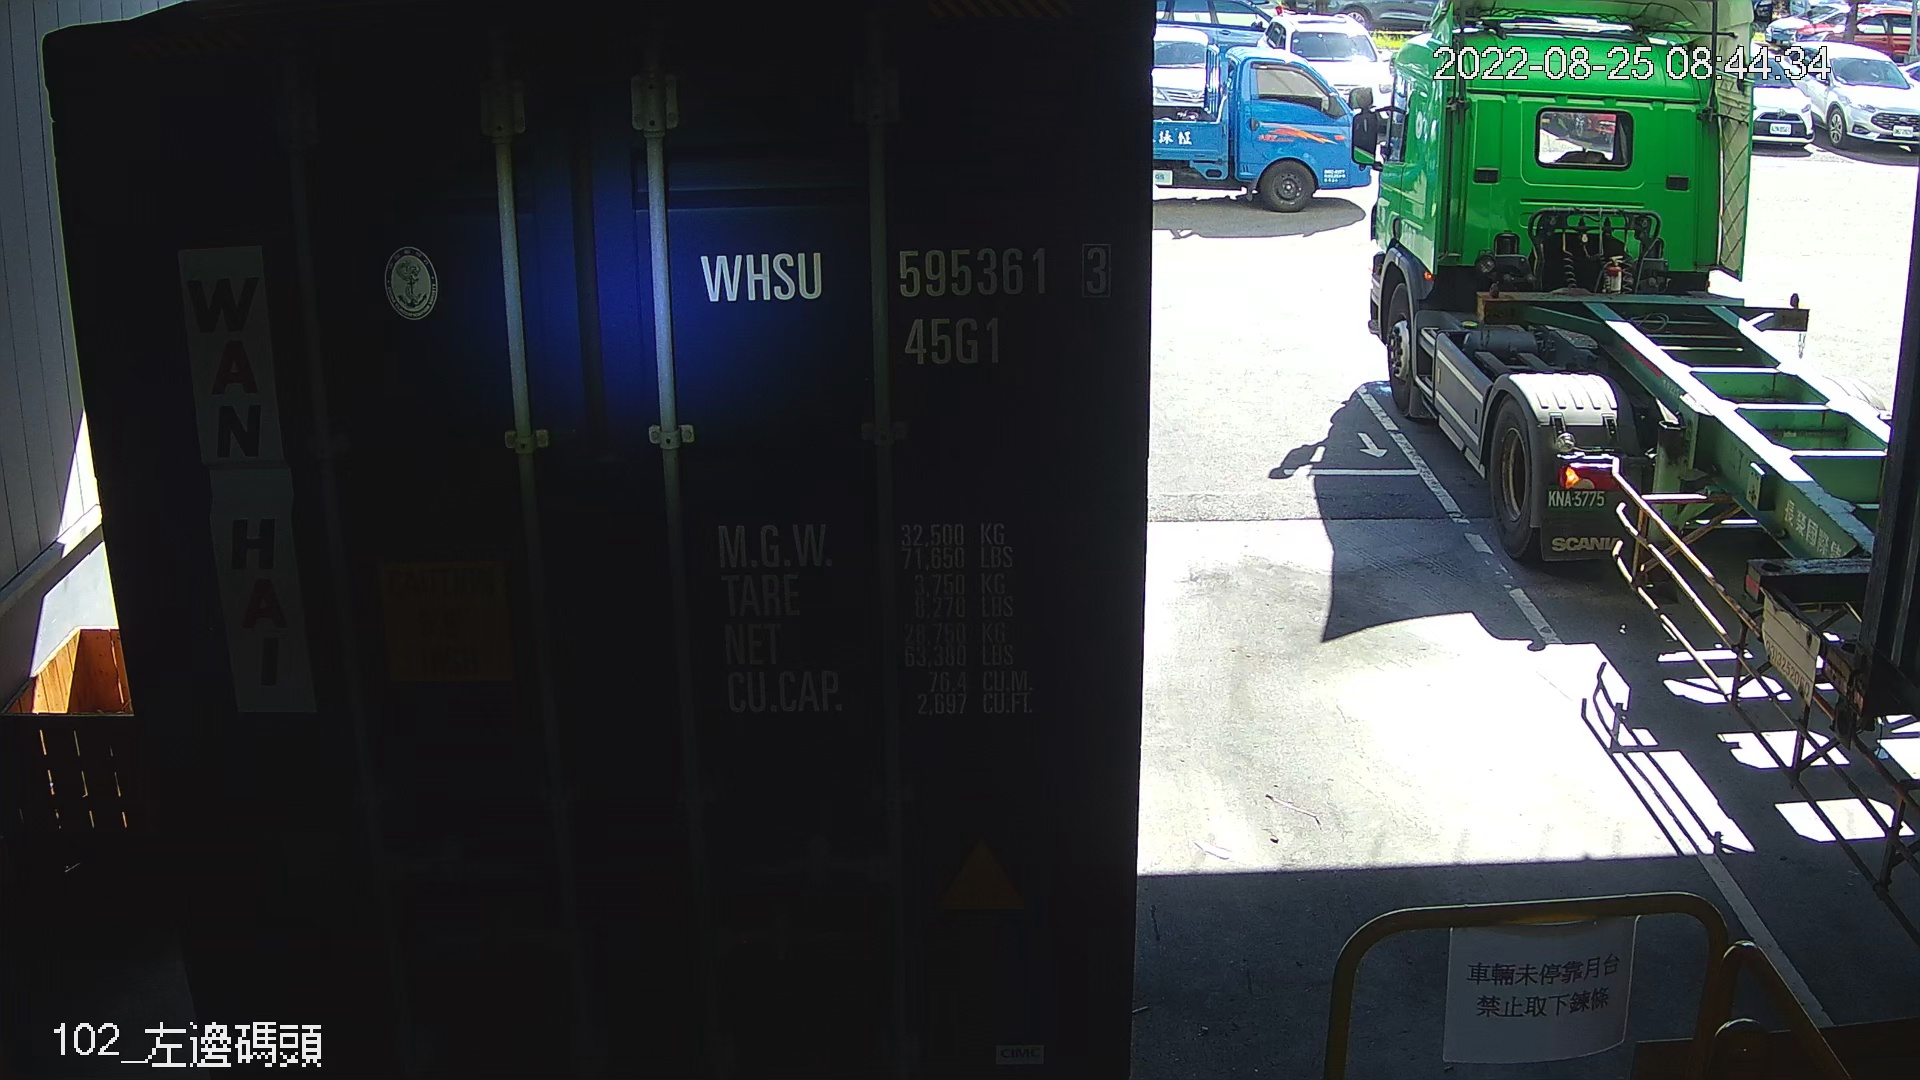container: (682, 232, 1125, 378)
